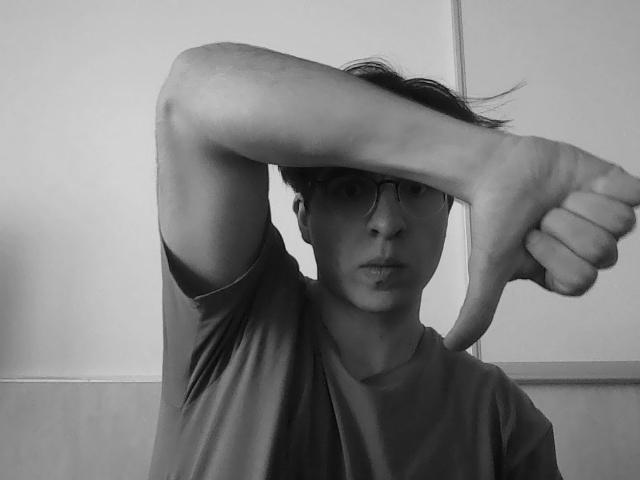bad: (440, 120, 640, 366)
